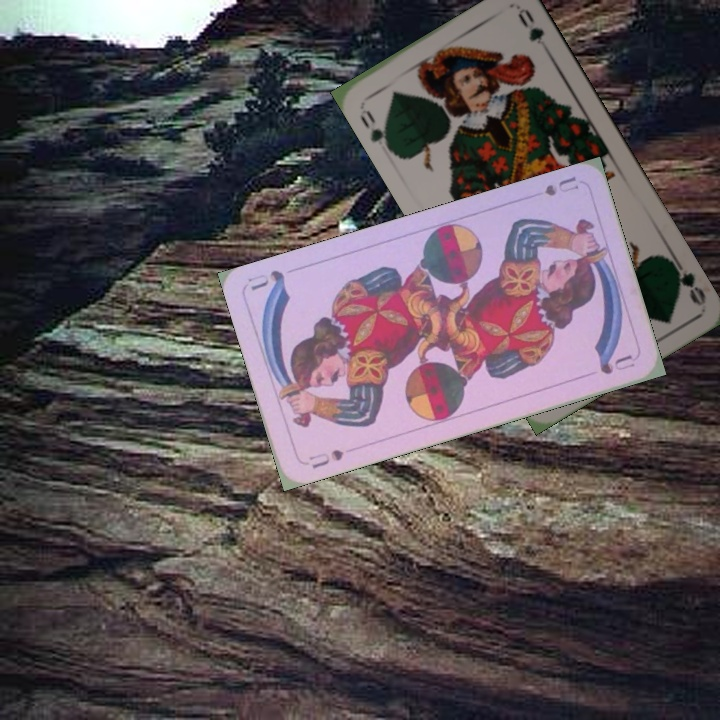GO: (664, 252, 709, 307), (355, 100, 394, 154)
SU: (540, 172, 582, 200), (305, 445, 346, 471)
